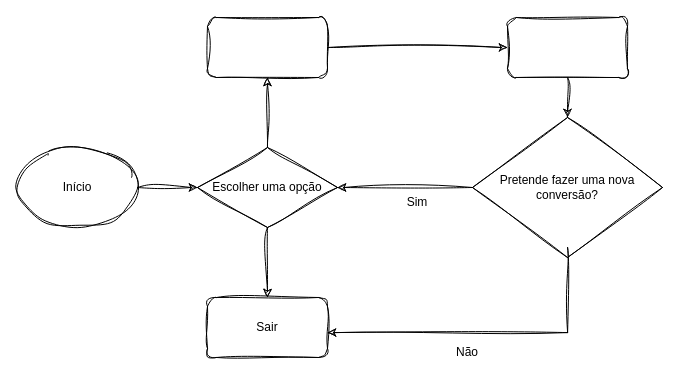
Some shapes in this 680 by 385 pixel diagram are drawn without their labels. Here are the shapes that lost their labels. From the top down, the box of each, then its label:
(206, 16, 328, 78): Número decimal para número binário
(506, 16, 628, 78): Inserir o número decimal que pretende converter
